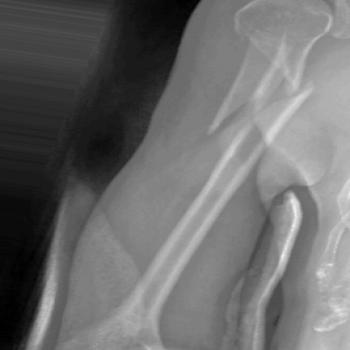Fracture: (204, 75, 315, 151)
